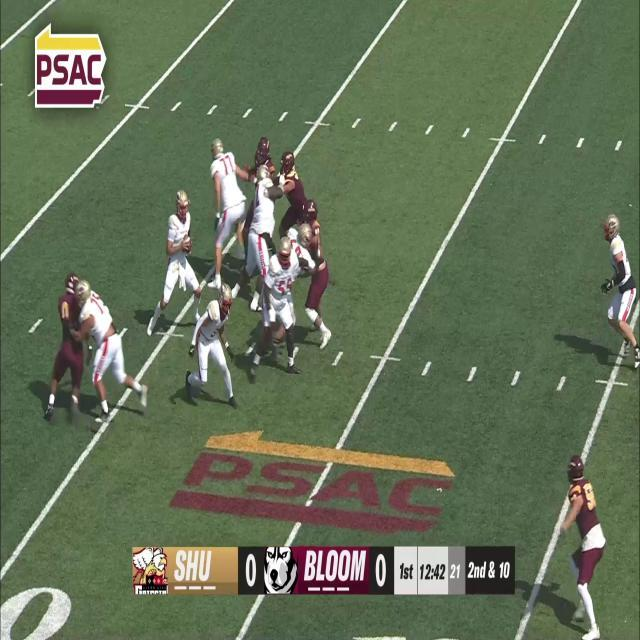football: (183, 234, 193, 254)
